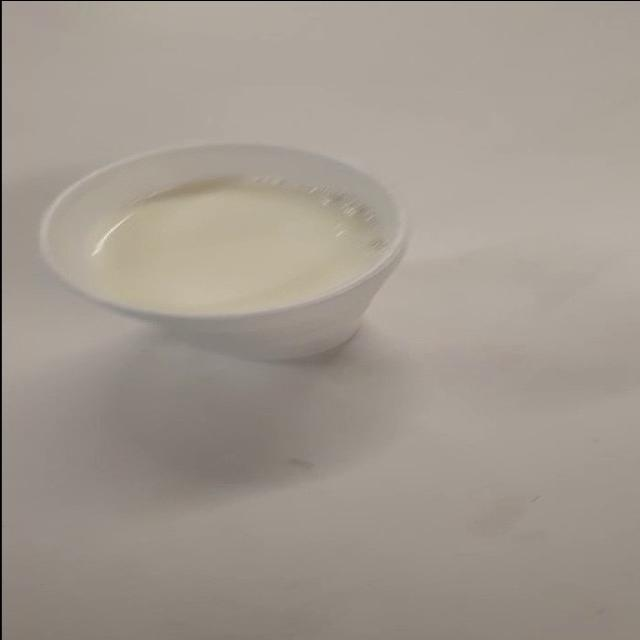Milk: (32, 137, 458, 357)
